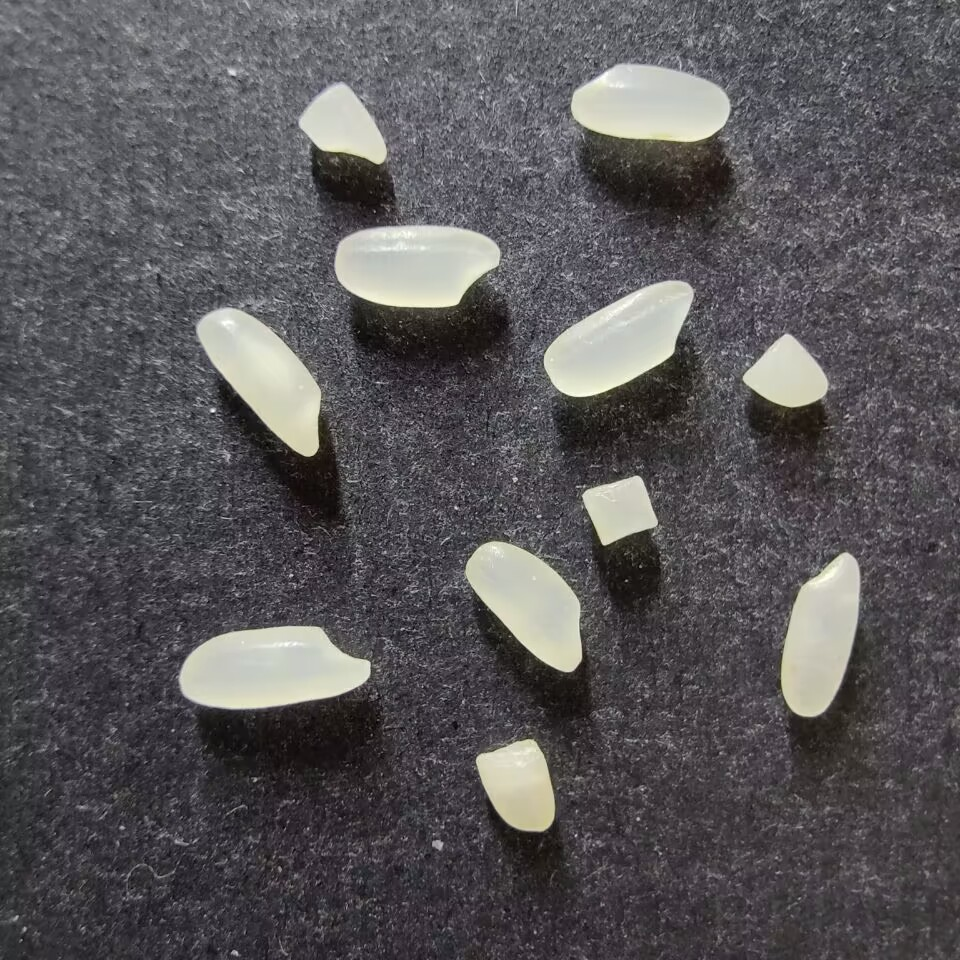broken: (297, 81, 387, 165), (475, 739, 555, 832), (741, 332, 829, 408), (581, 475, 658, 545)
rice: (195, 307, 321, 457), (542, 279, 693, 397), (179, 624, 371, 710), (464, 540, 583, 673), (333, 224, 500, 308), (779, 552, 860, 717), (570, 63, 729, 142)
